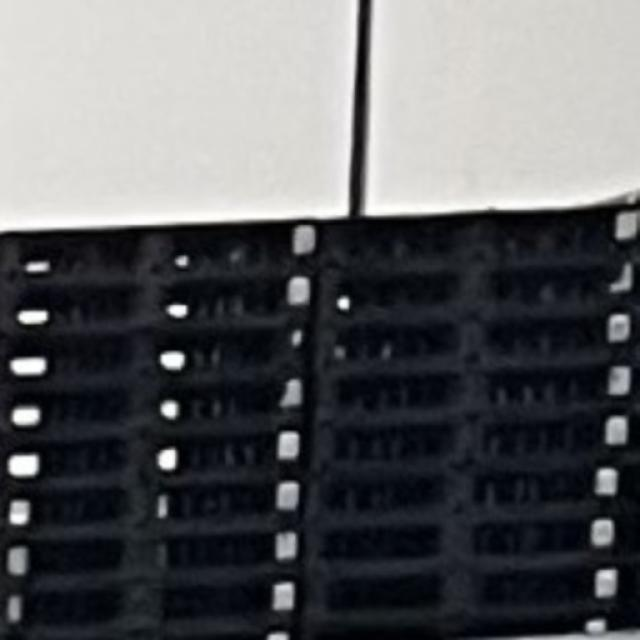igps: (321, 186, 640, 270), (0, 211, 324, 280), (0, 270, 319, 329), (307, 309, 640, 365), (299, 464, 640, 517), (295, 562, 640, 614), (301, 413, 640, 465), (0, 372, 308, 428), (303, 363, 640, 414), (312, 263, 640, 315), (0, 427, 306, 481), (0, 526, 305, 580), (0, 326, 311, 378), (296, 520, 640, 566), (0, 478, 306, 529), (0, 577, 302, 628), (295, 607, 640, 640), (0, 625, 299, 640)
